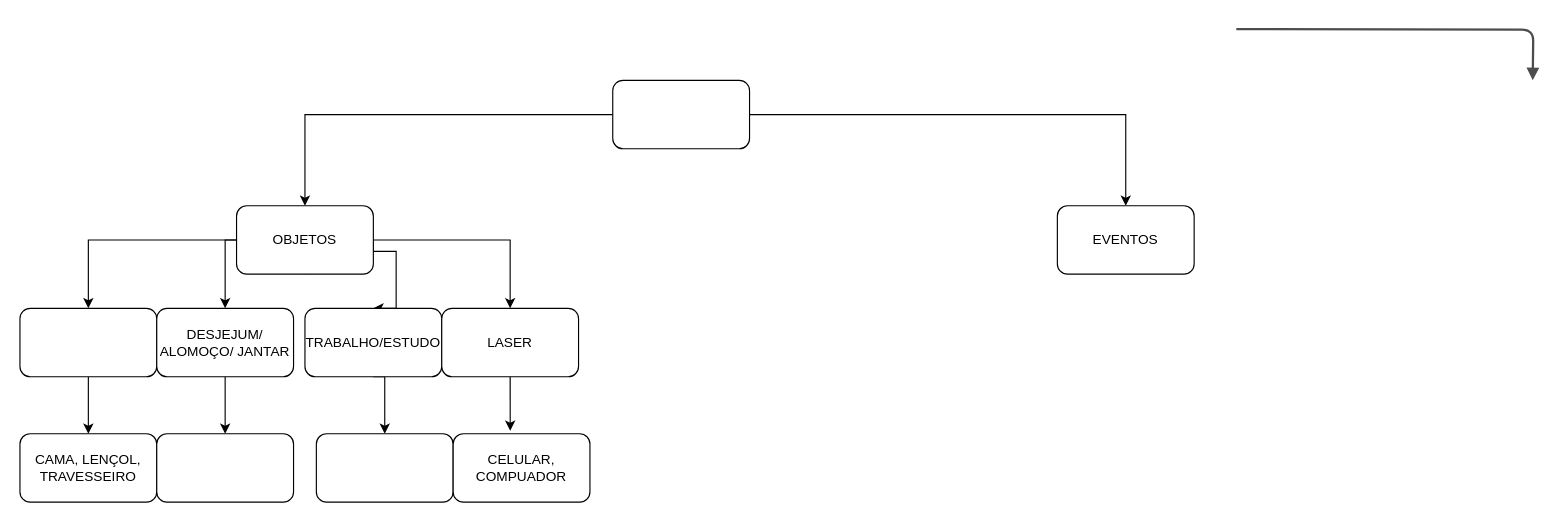
Image size: 1563x522. Some labels were removed from this diagram. The box of each missing label's shape, as (x1, y1, x2, y2) in pixels:
CAFÉ, PÃO, MANTEIGA, CARNE, ARROZ, FEIJÃO, OVO, ÁGUA: (156, 433, 294, 502)
COMPUTADOR, CADERNO, CANETA, CELULAR: (315, 433, 453, 502)
DORMIR: (19, 307, 157, 377)
EVENTOS E OBJETOS DO DIA A DIA: (612, 79, 750, 149)
